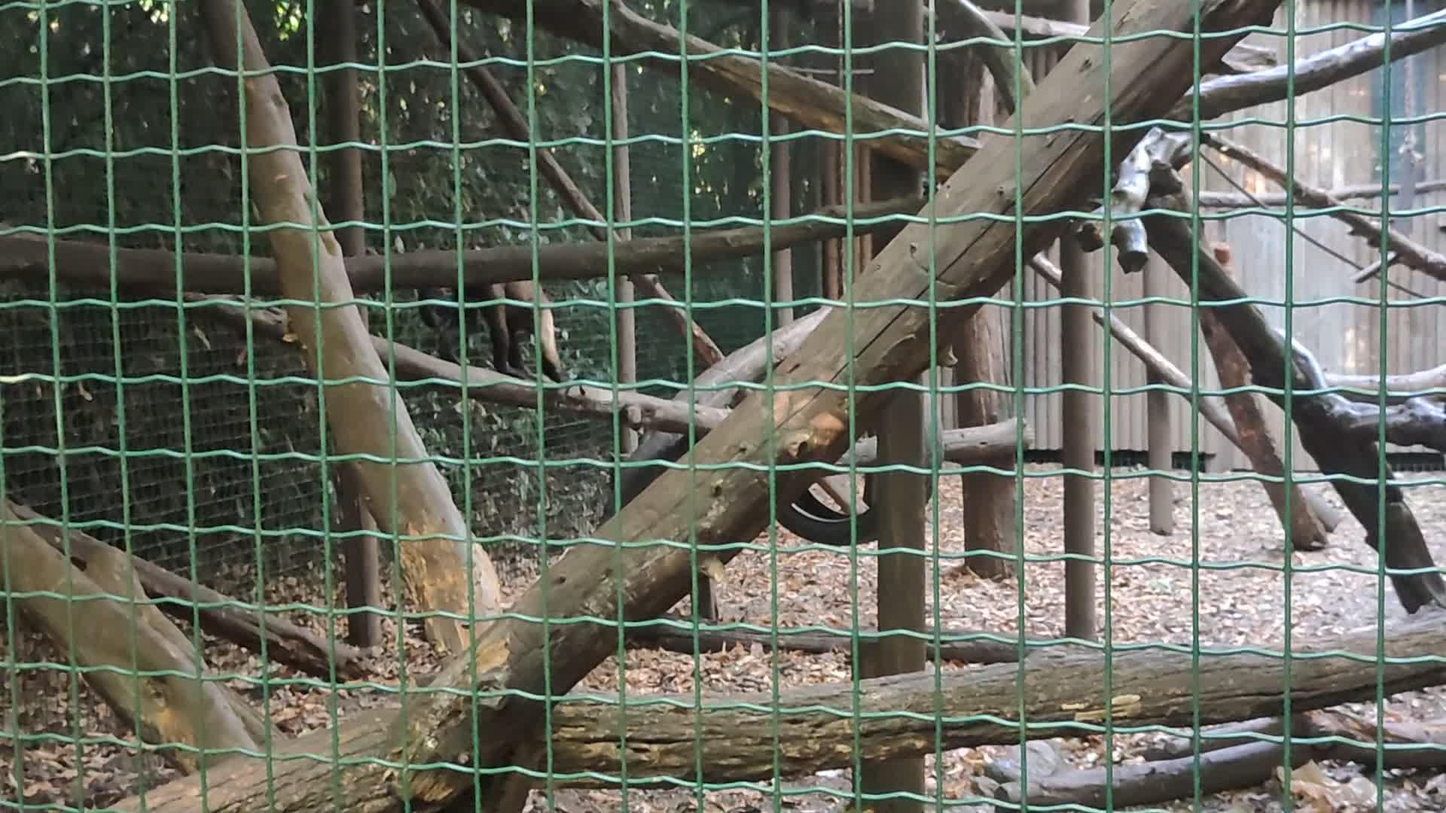boar: (418, 280, 567, 383)
